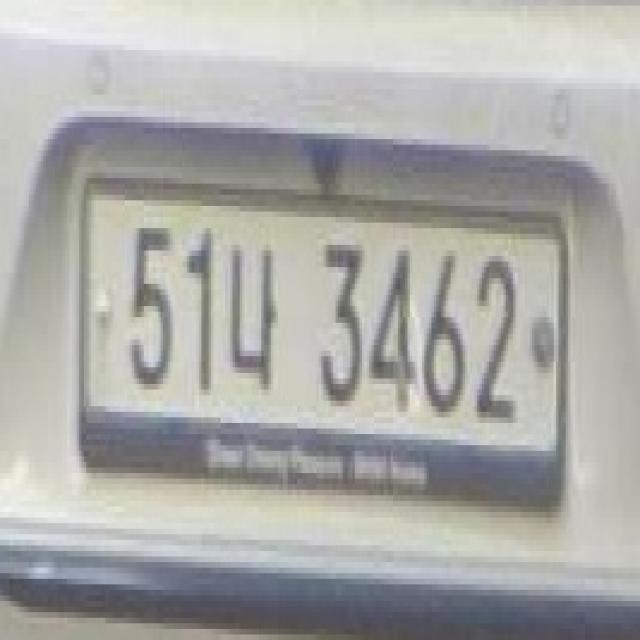1: (183, 226, 218, 405)
2: (474, 248, 522, 442)
3: (319, 227, 363, 414)
4: (368, 226, 418, 418)
5: (124, 212, 176, 392)
6: (426, 236, 468, 432)
license_plate: (73, 169, 579, 529)
na: (229, 235, 286, 414)
